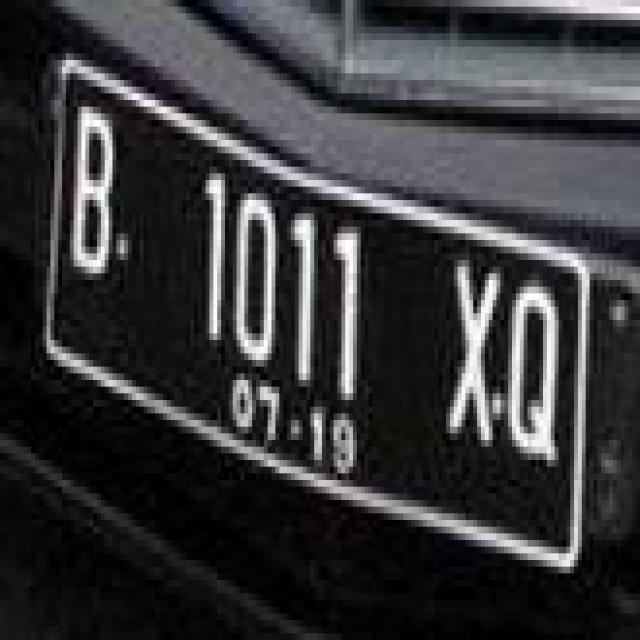0: (227, 170, 284, 375)
1: (285, 195, 325, 395), (329, 210, 363, 409), (197, 164, 232, 356)
B: (63, 92, 124, 293)
Q: (500, 262, 566, 481)
X: (437, 244, 508, 465)
